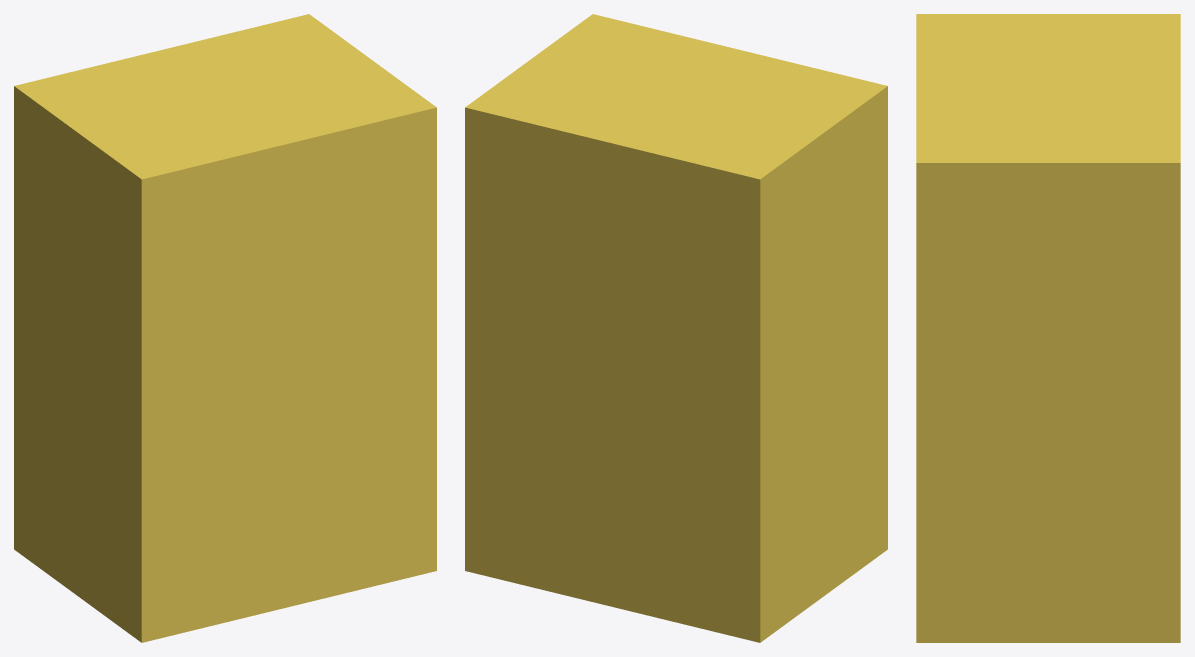
Rendered from shore_power_box.glb.
3 views of the same model, side by side, from view 1: azimuth 30°, elevation 25°; view 2: azimuth 150°, elevation 25°; view 3: azimuth 270°, elevation 25° (orthographic). The views are drawn at different scales.
Parts seen in each view (by area): view 1: powerbox; view 2: powerbox; view 3: powerbox.
Boxes of the visible parts, left/top/right/bottom form: powerbox: left=14, top=14, right=436, bottom=642; powerbox: left=465, top=14, right=887, bottom=642; powerbox: left=916, top=14, right=1180, bottom=642.
Size of the model in its own units: 0.7998 by 1.2 by 0.5996.
